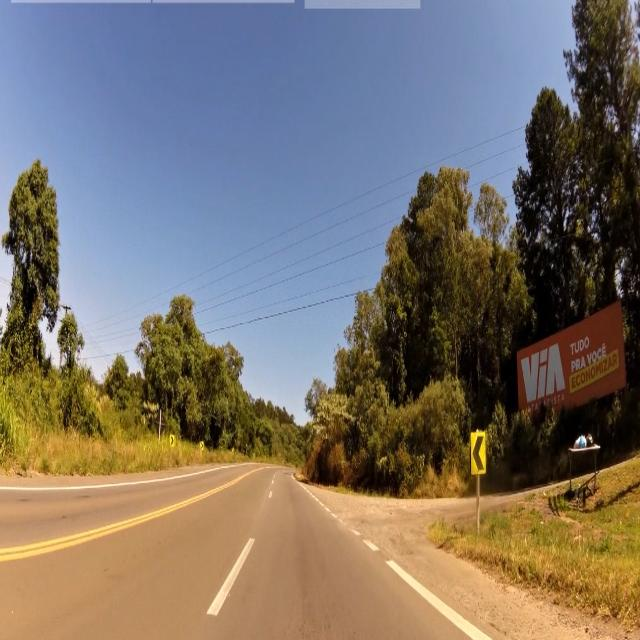Del: (471, 430, 487, 477)
